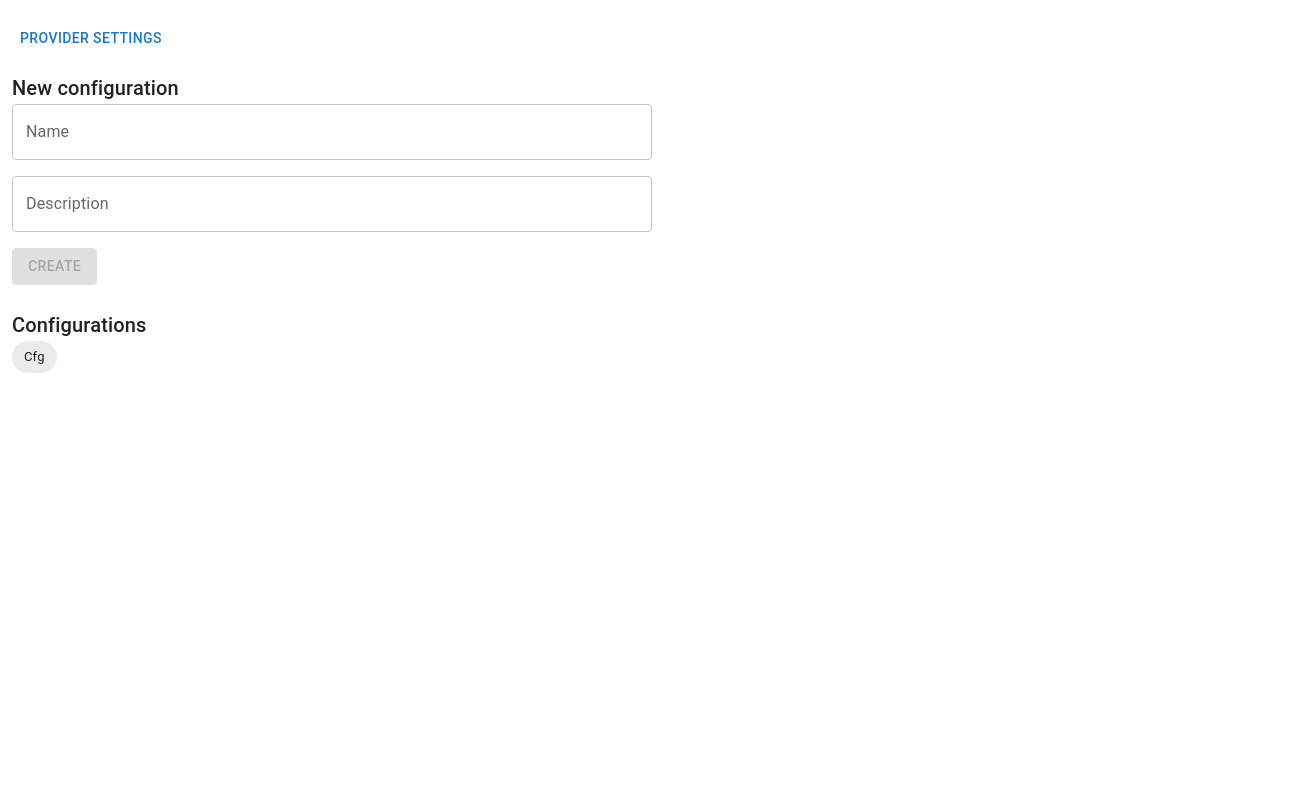
Test case: viewer-only stop: banner and count come from the run payload
This screenshot has width=1304, height=797.
What coordinates should you click on to do the following:
click the button "Cfg"
I would click on:
 (34, 357)
Its box is x1=12 y1=341 x2=57 y2=373.
(page scrolled)
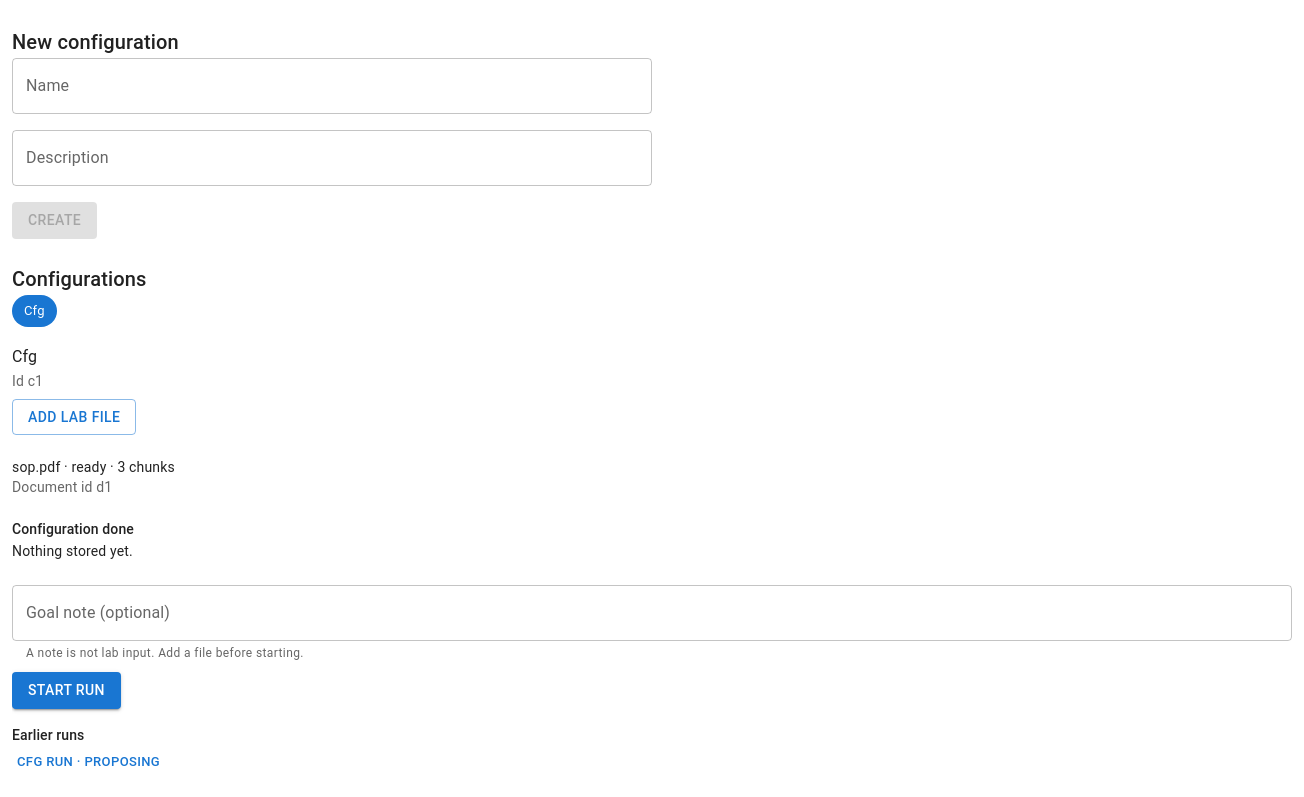
What coordinates should you click on to do the following:
click the button "Cfg run · proposing"
I would click on:
 (89, 762)
Its box is x1=12 y1=747 x2=165 y2=778.
(page scrolled)
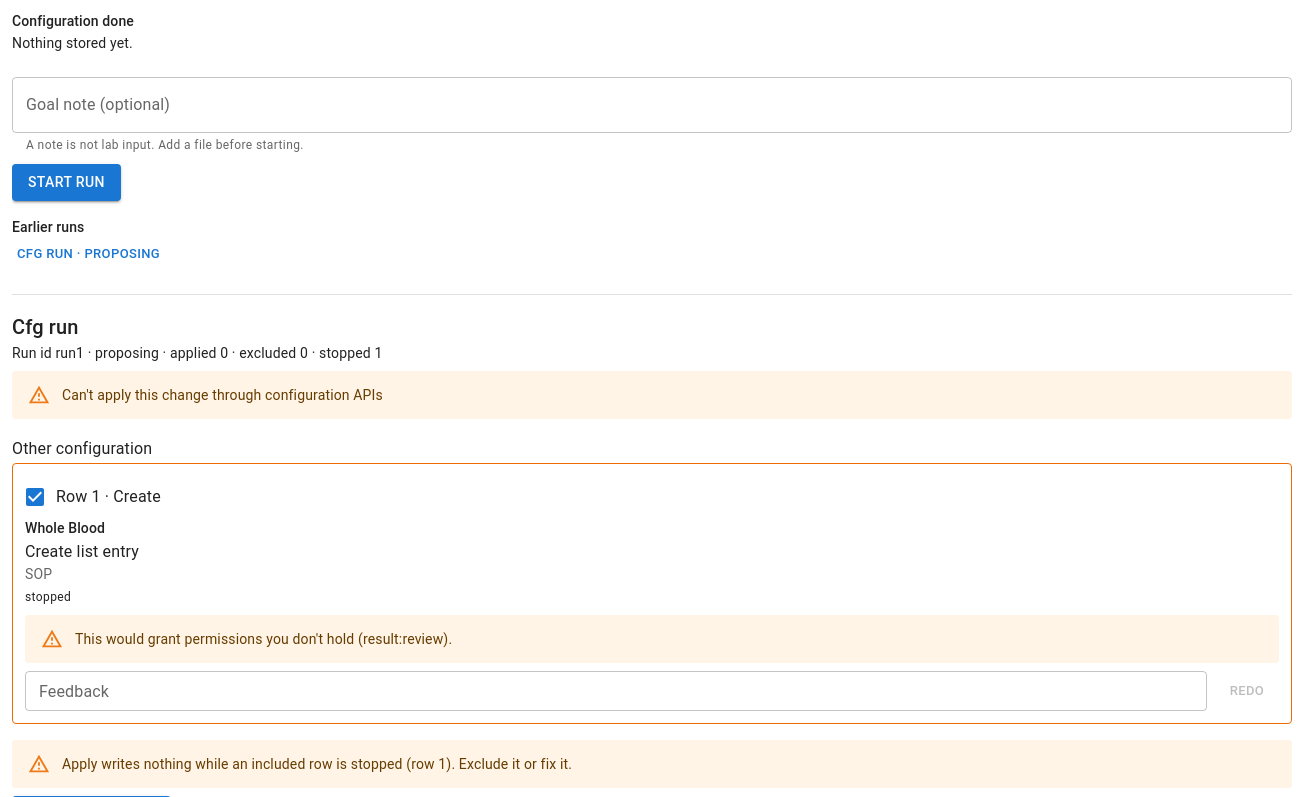
Check: the text "Run id run1 · proposing · applied 0 · excluded 0 · stopped 1" is shown, box x1=12 y1=344 x2=382 y2=360
Check: the text "Can't apply this change through configuration APIs" is shown, box x1=62 y1=386 x2=383 y2=402
